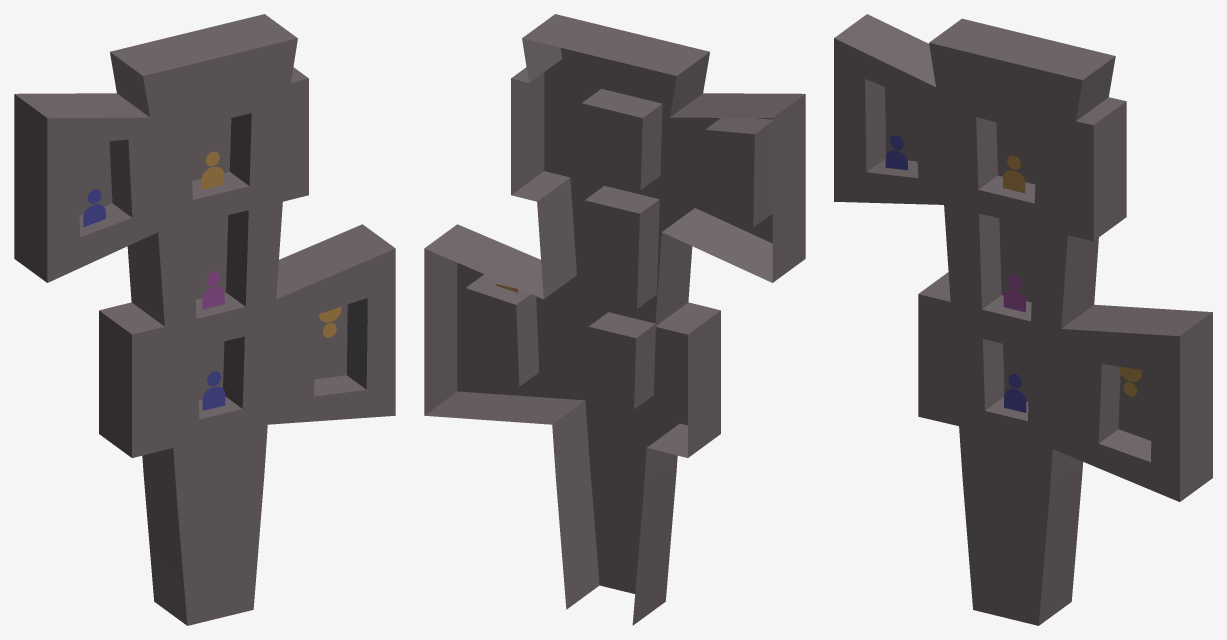
Rendered from Building2.fbx.
3 views of the same model, side by side, from view 1: azimuth 30°, elevation 25°; view 2: azimuth 150°, elevation 25°; view 3: azimuth 330°, elevation 25° (orthographic).
Visible parts, largest first — view 1: Building2, Person13, Person10, Person11, Person12; view 2: Building2; view 3: Building2, Person13, Person10, Person11, Person12.
Boxes of the visible parts, x1,y1,x2,y2 form: Building2: (14, 14, 395, 625); Person13: (202, 371, 225, 410); Person10: (201, 151, 223, 189); Person11: (202, 271, 224, 309); Person12: (83, 189, 105, 227); Building2: (424, 14, 805, 625); Building2: (834, 14, 1212, 625); Person13: (1004, 374, 1026, 412); Person10: (1003, 155, 1025, 193); Person11: (1003, 274, 1025, 312); Person12: (885, 135, 907, 170).
Bounding box in the file's own units: 12.61 × 19.39 × 2.08.
